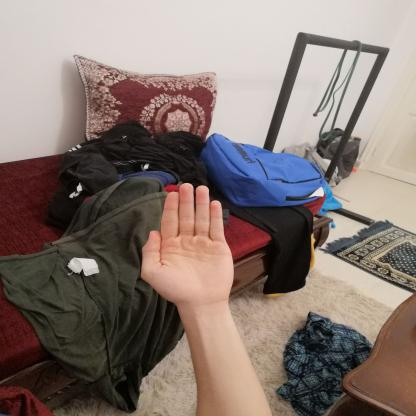SEEN: (130, 177, 244, 314)
